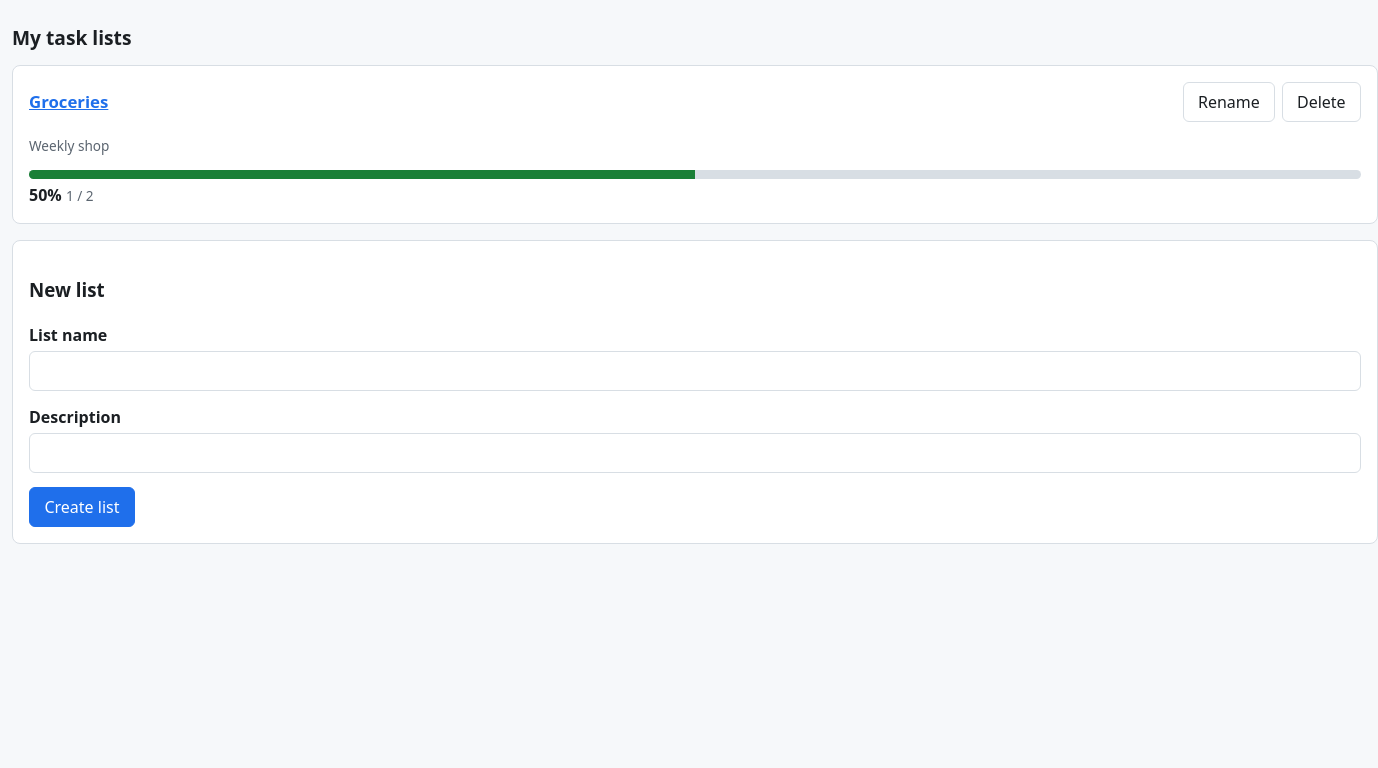
it: renaming a list › patches the name alone and shows the renamed list
This screenshot has width=1378, height=768.
Click the button with aria-label "Rename Groceries": (1229, 102) [1183, 82, 1275, 122]
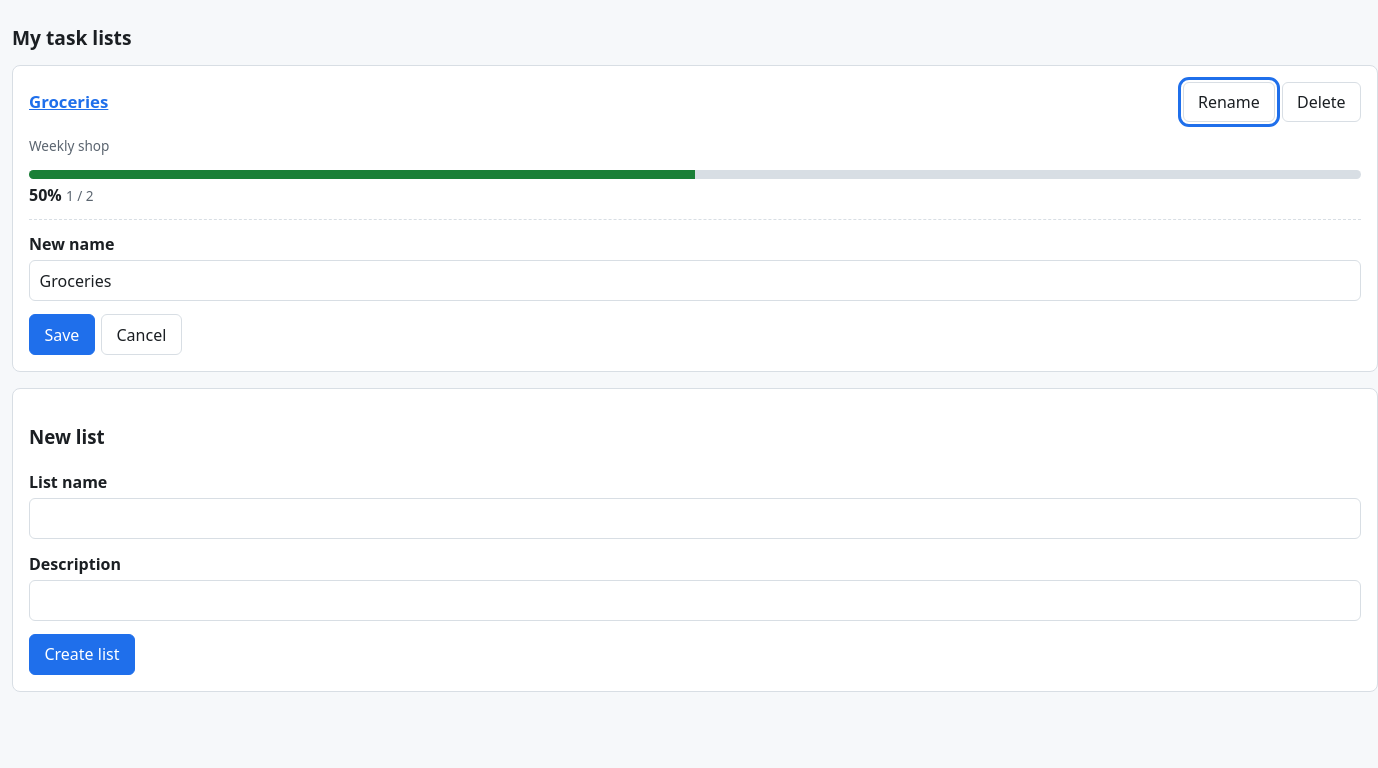
Replace the text in the field labelled "New name" with "Groceries (weekly)": (695, 280) [29, 260, 1361, 301]
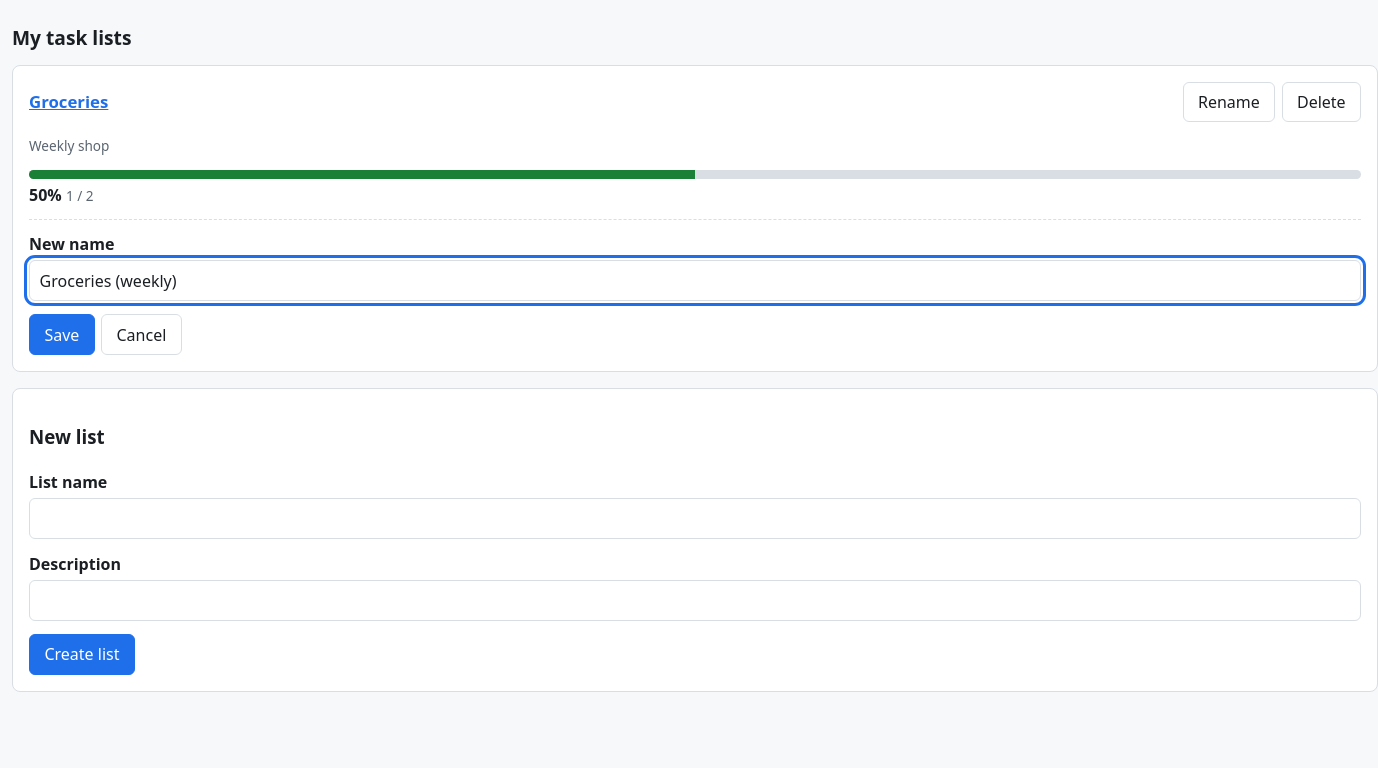
Click the button with aria-label "Save new name": (62, 334) [29, 314, 95, 355]
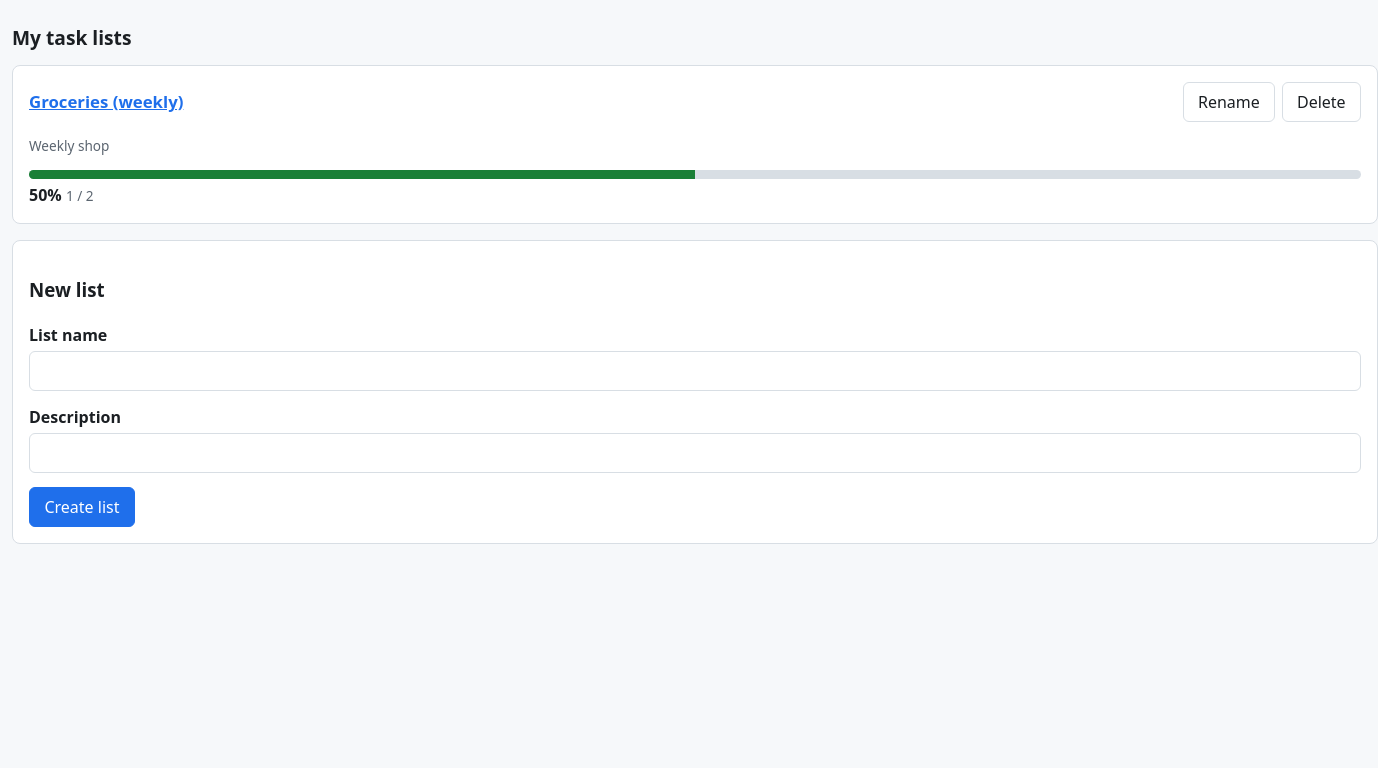
Expected: the button "Groceries (weekly)" is shown, [29, 89, 183, 114]
